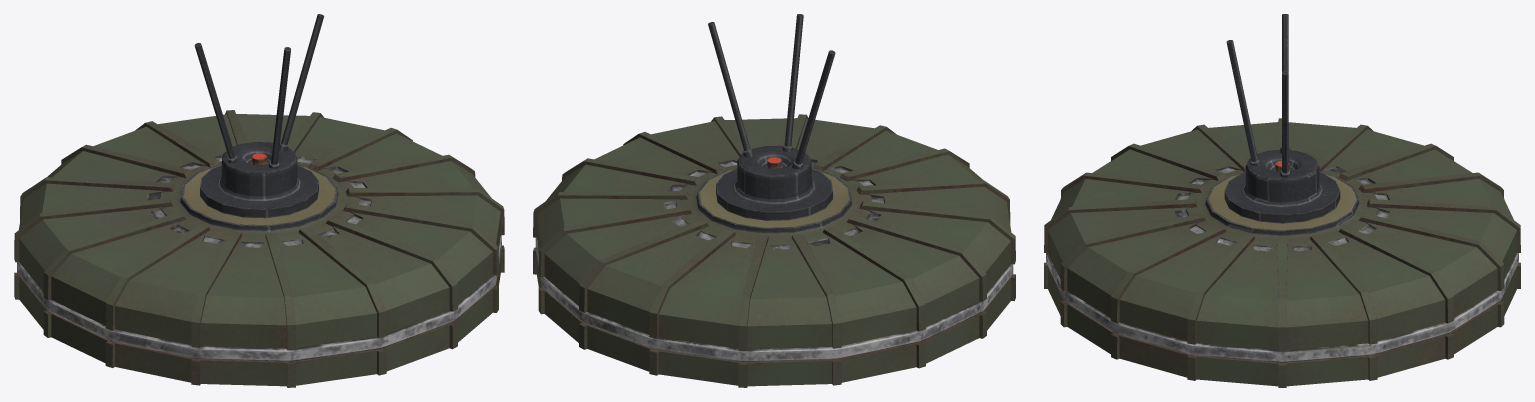
Rendered from proximity_mine.glb.
3 views of the same model, side by side, from view 1: azimuth 30°, elevation 25°; view 2: azimuth 150°, elevation 25°; view 3: azimuth 270°, elevation 25° (orthographic). The views are drawn at different scales.
Parts seen in each view (by area): view 1: Cylinder; view 2: Cylinder; view 3: Cylinder.
Part boxes in pixels (x1,y1,x2,y2): Cylinder: [14, 14, 504, 387]; Cylinder: [533, 14, 1015, 387]; Cylinder: [1044, 14, 1520, 387].
Bounding box in the file's own units: 202 × 116 × 202.
1 material, 1 textured.
